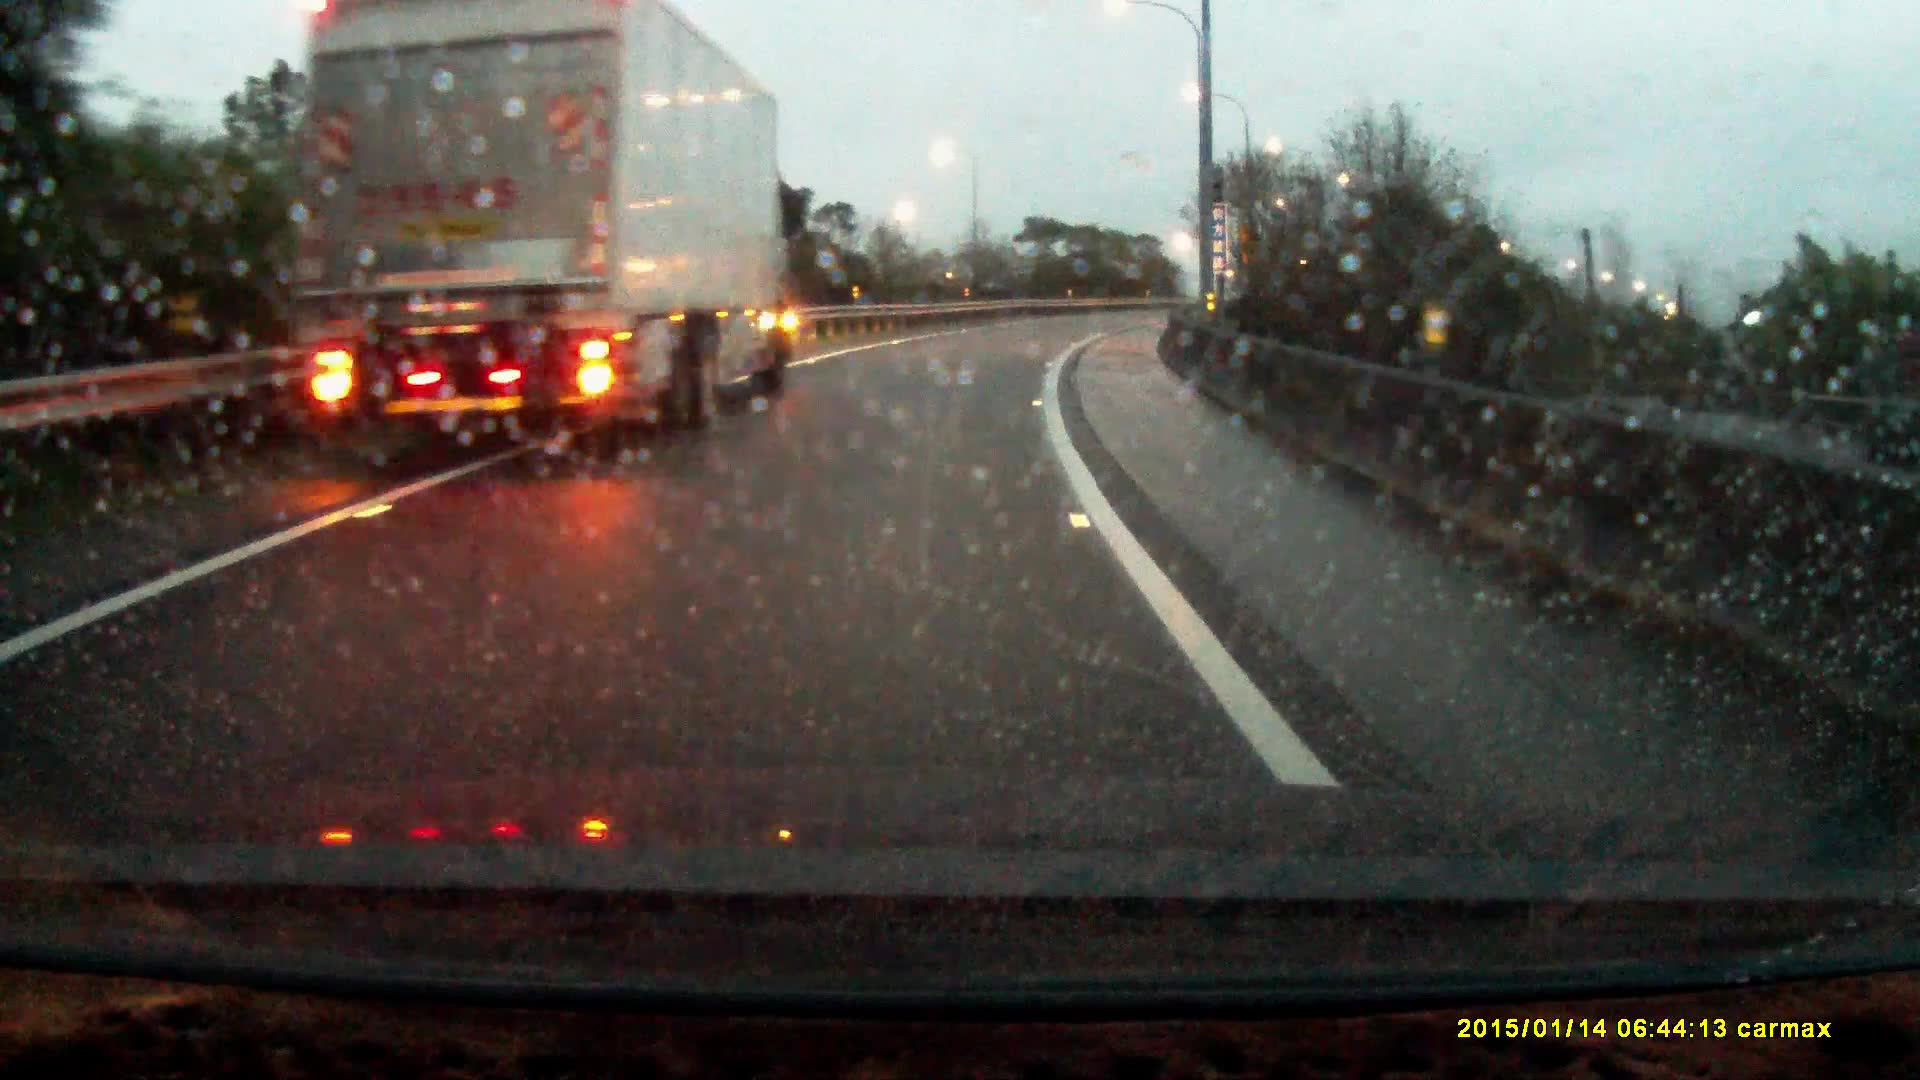vehicle: (281, 1, 803, 451)
